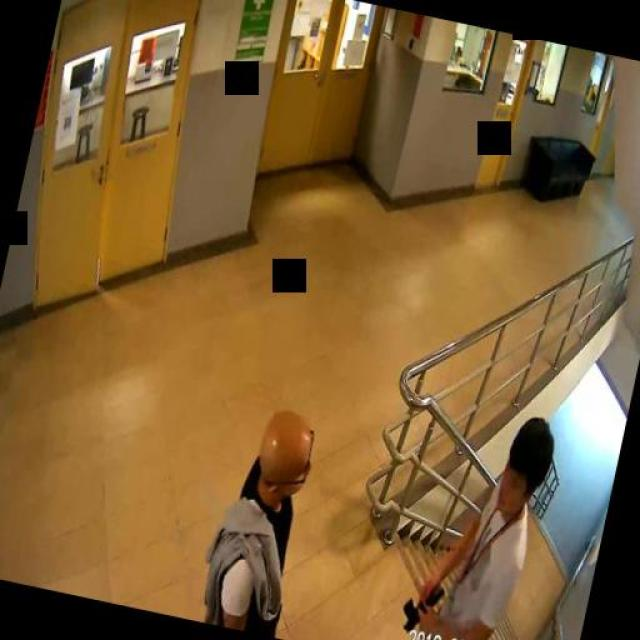gun: (396, 577, 444, 635)
